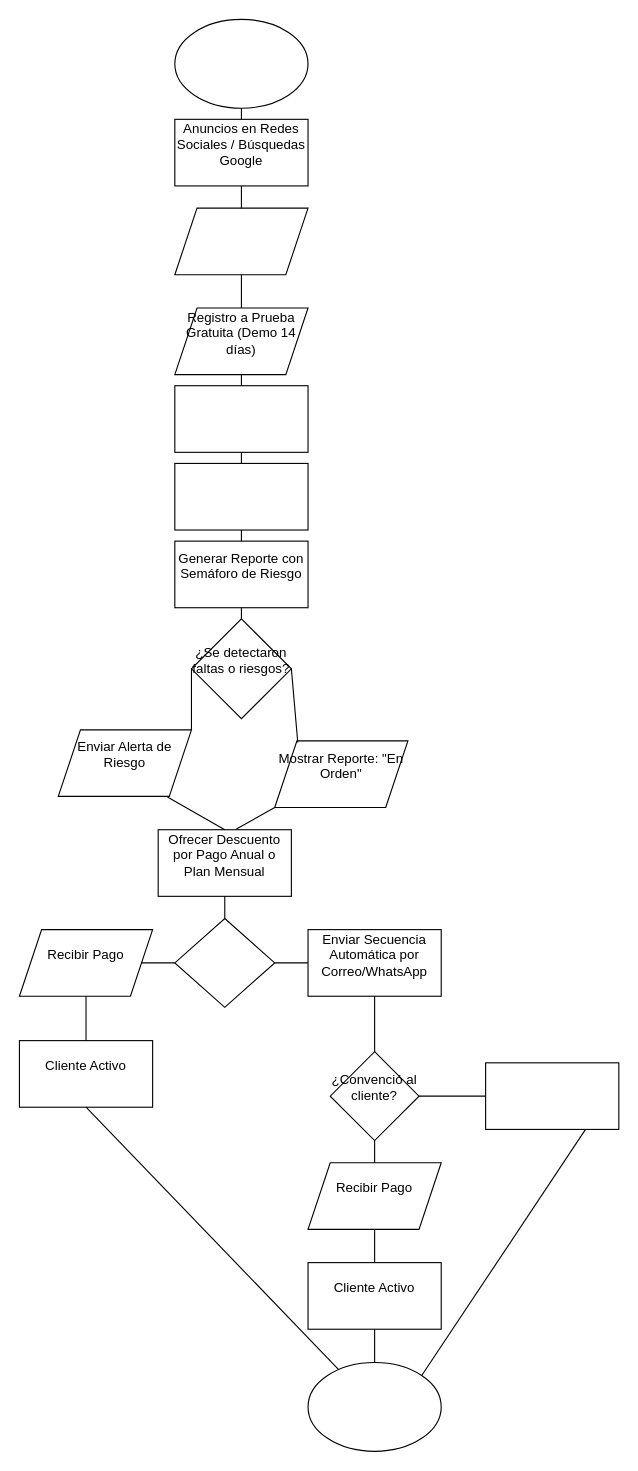
The diagram is 638 pixels wide and 1471 high, and some of its shapes have lost their labels. The shapes that lost their labels are listed below. From the top down, each one's centre as x and y in pixels, then its label:
(x=241, y=63): INICIO
(x=241, y=241): Atraer al cliente: "Evita Clausuras y Multas"
(x=241, y=418): Escaneo
(x=241, y=496): Diagnóstico Gratuito del Primer Document
(x=224, y=962): ¿El cliente compra el plan?
(x=552, y=1095): Archivar Prospecto
(x=374, y=1406): FIN
